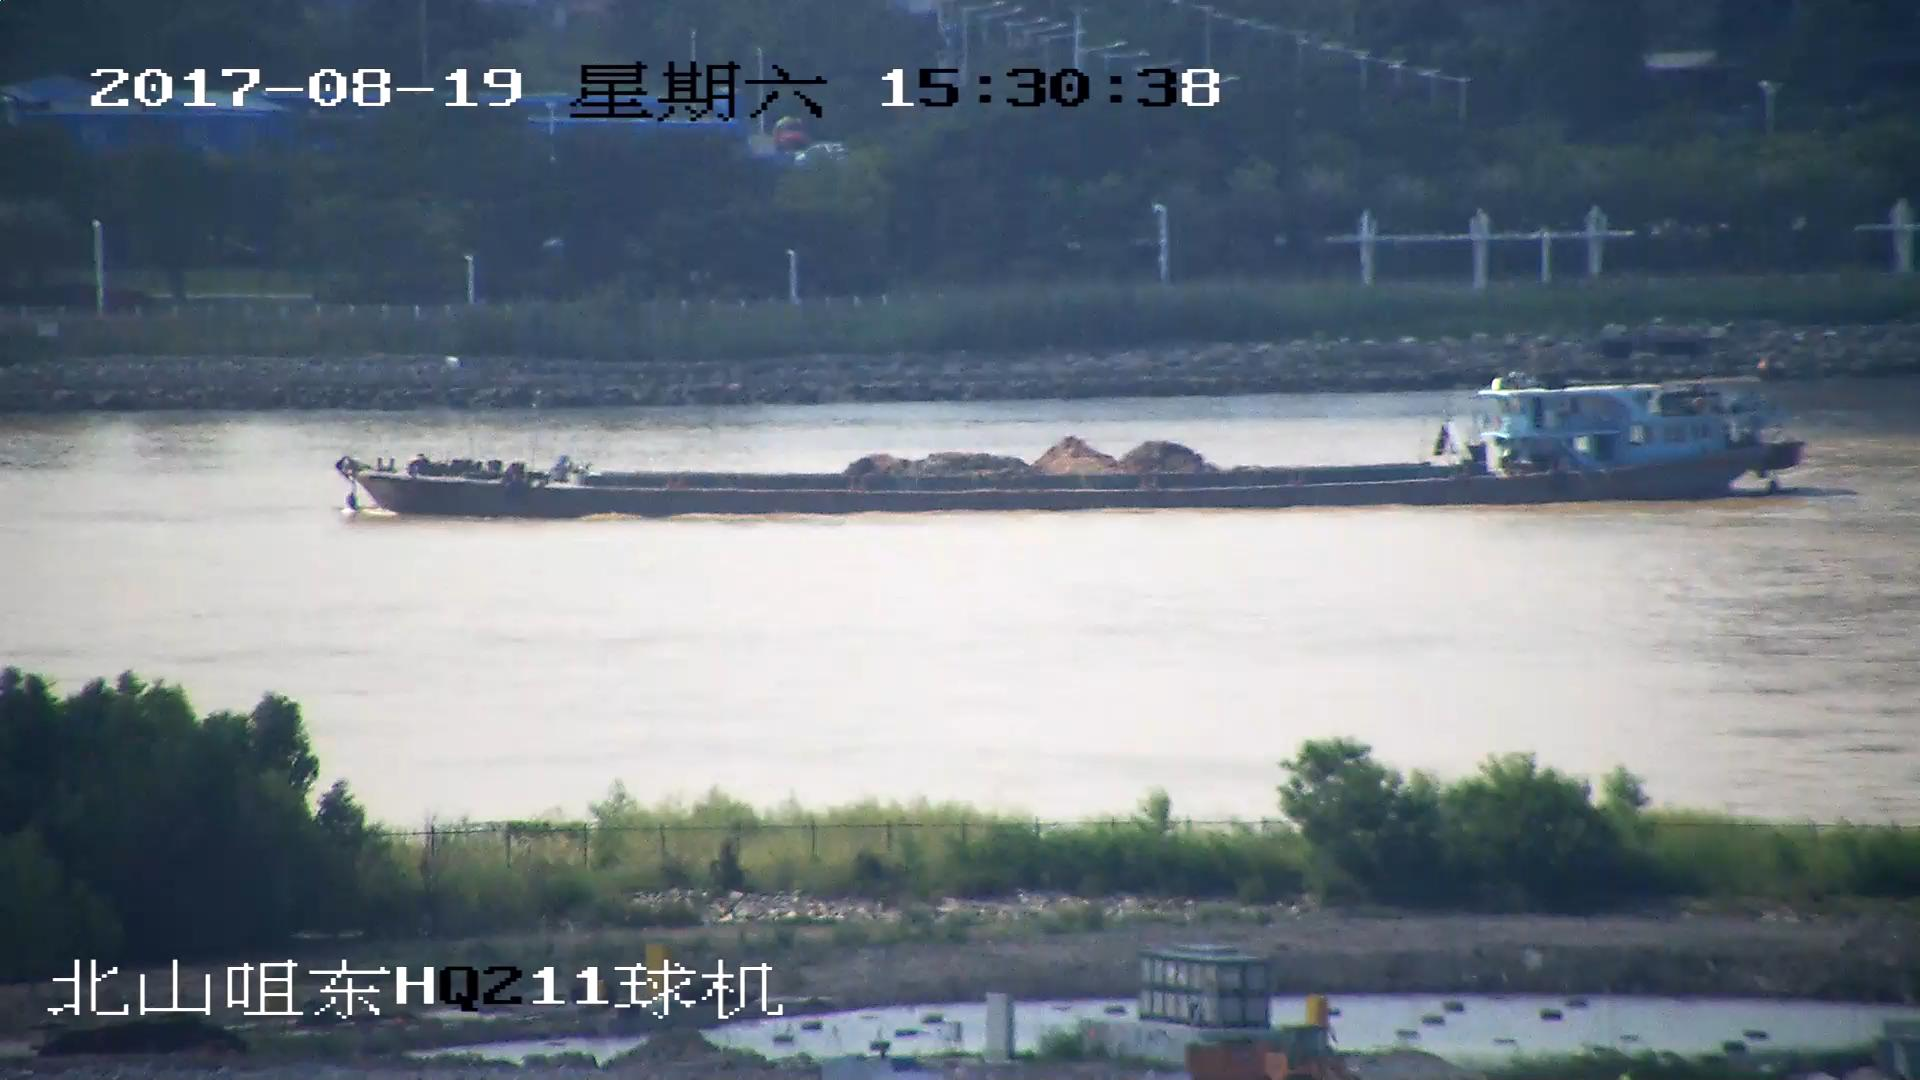ore carrier: (332, 380, 1804, 522)
